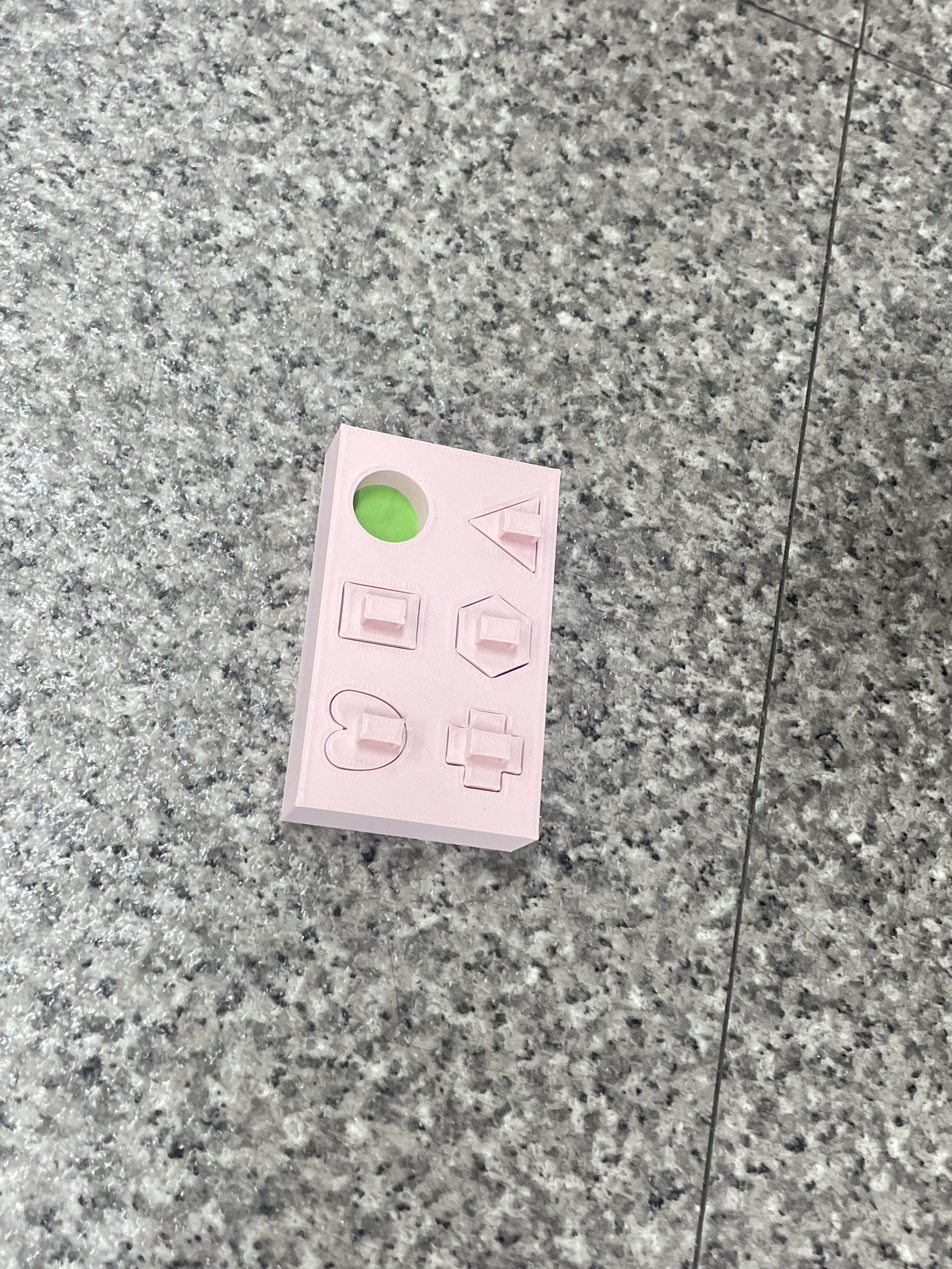unsolved: (274, 419, 569, 860)
